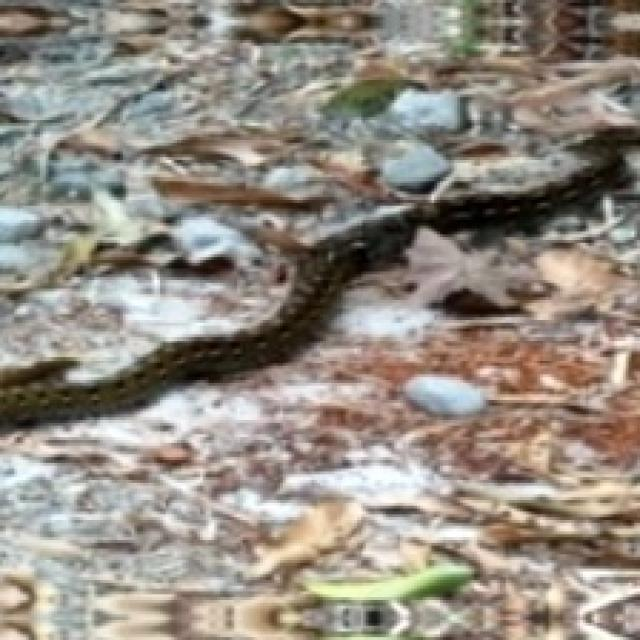reticulated python: (0, 140, 623, 429)
